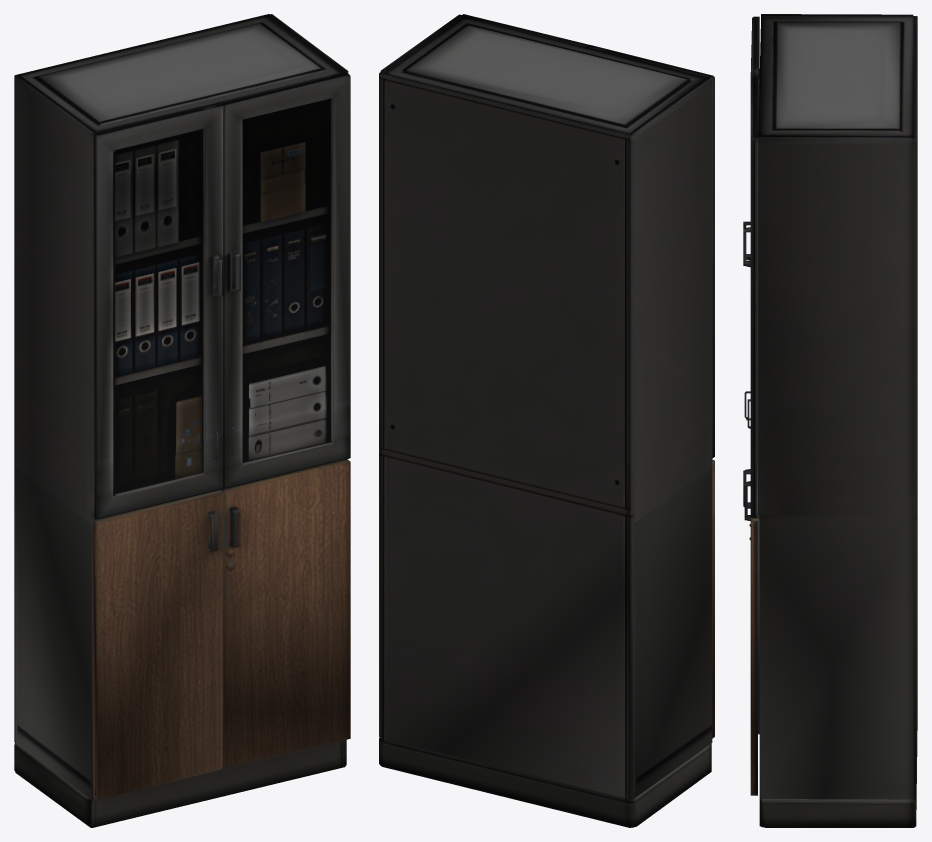
The model's file is ENV_cabinet_v001.fbx.
3 views of the same model, side by side, from view 1: azimuth 30°, elevation 25°; view 2: azimuth 150°, elevation 25°; view 3: azimuth 270°, elevation 25° (orthographic).
Visible parts, largest first — view 1: tripo_node_b8f7fdeb-0120-42e7-93e7-8b975202e613; view 2: tripo_node_b8f7fdeb-0120-42e7-93e7-8b975202e613; view 3: tripo_node_b8f7fdeb-0120-42e7-93e7-8b975202e613.
Part boxes in pixels (x1,y1,x2,y2): tripo_node_b8f7fdeb-0120-42e7-93e7-8b975202e613: (14, 14, 350, 827); tripo_node_b8f7fdeb-0120-42e7-93e7-8b975202e613: (379, 14, 714, 827); tripo_node_b8f7fdeb-0120-42e7-93e7-8b975202e613: (743, 14, 917, 827).
Bounding box in the file's own units: 38.87 × 99.8 × 22.85.
Materials: 1 (1 with a texture image).
